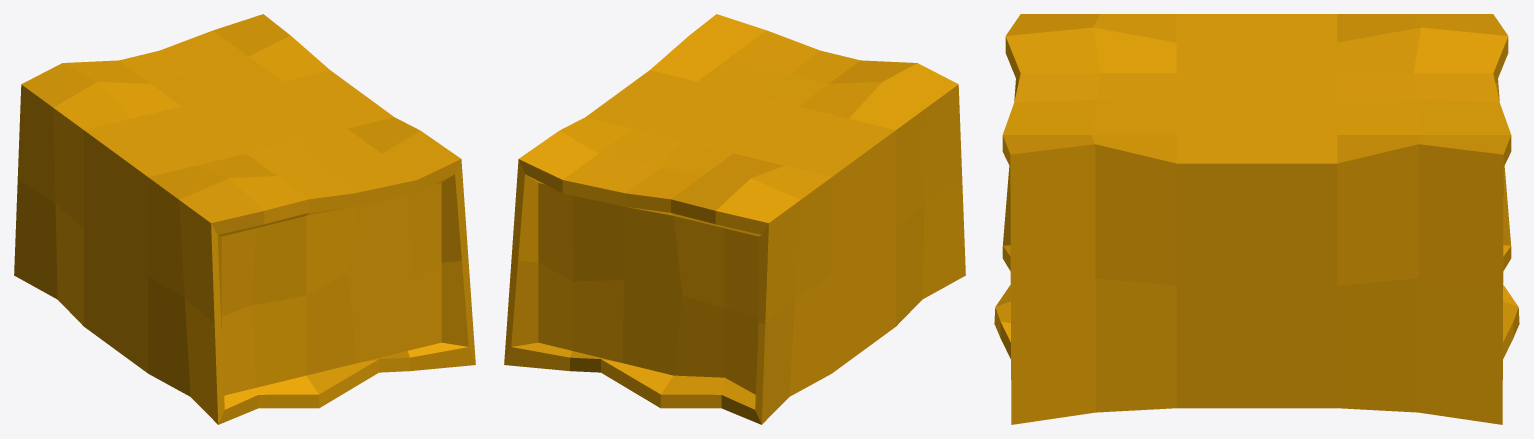
The model's file is square_hay_1.FBX.
The picture shows the model from 3 angles, left to right: view 1: azimuth 30°, elevation 25°; view 2: azimuth 150°, elevation 25°; view 3: azimuth 270°, elevation 25°; orthographic projection. The views are drawn at different scales.
Visible parts, largest first — view 1: square_hay_1; view 2: square_hay_1; view 3: square_hay_1.
Boxes of the visible parts, left/top/right/bottom form: square_hay_1: left=14, top=14, right=475, bottom=424; square_hay_1: left=504, top=14, right=965, bottom=424; square_hay_1: left=994, top=14, right=1519, bottom=424.
Bounding box in the file's own units: 0.3244 × 0.2652 × 0.454.
Materials: 1 (1 with a texture image).
